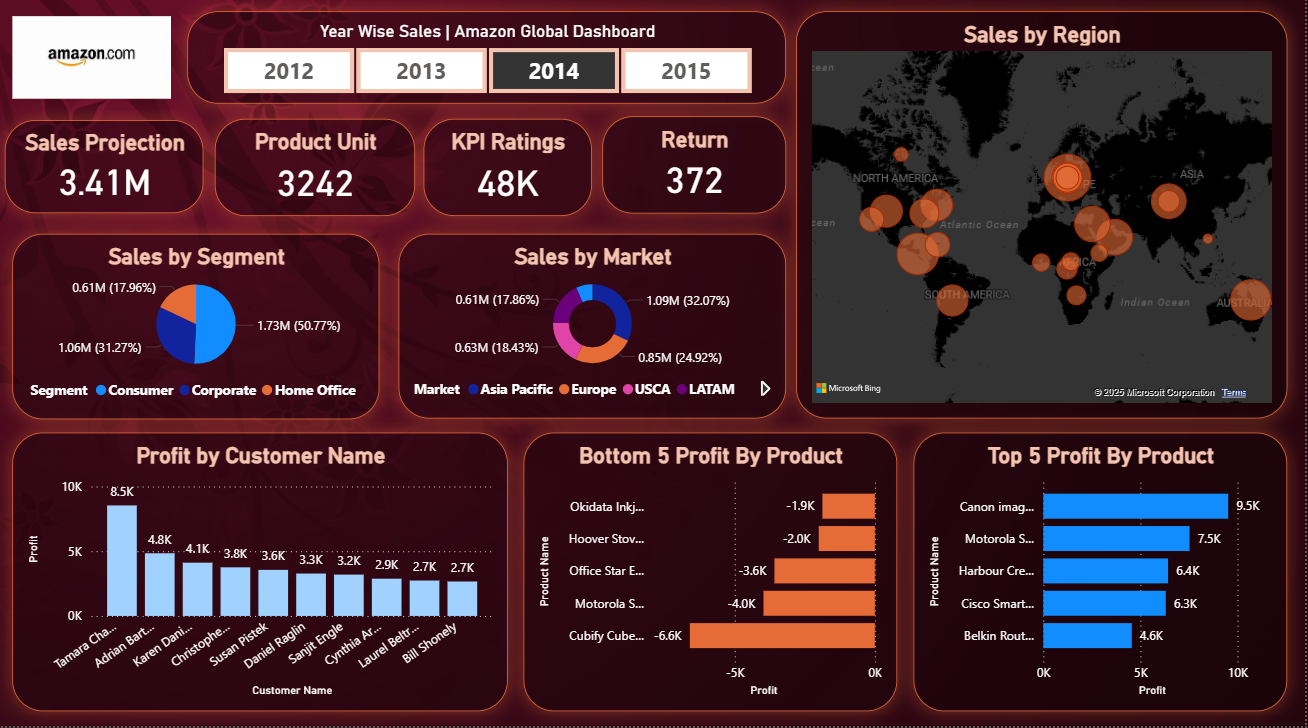

What the dashboard file says about the page in this screenshot:
{"tool":"powerbi","page":{"name":"Report 1","canvas":[1280,720],"ordinal":0},"visuals":[{"type":"slicer","title":"Year Wise Sales | Amazon Global Dashboard","fields":{"Values":["Orders.Year"]},"box":[187.1,20.8,585.7,90.5],"z":0},{"type":"card","title":"Sales Projection","fields":{"Values":["Orders.Sales"]},"box":[8.7,127,194.8,90.9],"z":1000},{"type":"image","box":[0,20.2,187.6,90.9],"z":2000},{"type":"card","title":"Return","fields":{"Values":["Orders.Ship Date"]},"box":[593.1,123.5,179.8,95.4],"z":3000},{"type":"card","title":"KPI Ratings","fields":{"Values":["Orders.Quantity"]},"box":[418.4,125.5,164.5,95.2],"z":4000},{"type":"card","title":"Product Unit","fields":{"Values":["Orders.Product Name"]},"box":[213.5,125.5,196.2,95.2],"z":5000},{"type":"pieChart","title":"Sales by Segment","fields":{"Category":["Orders.Segment"],"Y":["Orders.Sales","select"]},"box":[15.9,238.1,359.2,181.8],"z":6000},{"type":"donutChart","title":"Sales by Market","fields":{"Category":["Orders.Market"],"Y":["Orders.Sales"]},"box":[393.8,238.5,379.1,181],"z":7000},{"type":"columnChart","title":"Profit by Customer Name","fields":{"Category":["Orders.Customer Name"],"Y":["Orders.Profit"]},"box":[15.6,432.4,485,273.1],"z":8000},{"type":"clusteredBarChart","title":"Bottom 5 Profit By Product","fields":{"Category":["Orders.Product Name"],"Y":["Orders.Profit"]},"box":[516.3,432.4,365.5,273.1],"z":9000},{"type":"clusteredBarChart","title":"Top 5 Profit By Product","fields":{"Category":["Orders.Product Name"],"Y":["Orders.Profit"]},"box":[897.4,432.4,365.5,273.1],"z":10000},{"type":"map","title":"Sales by Region","fields":{"Category":["Orders.Region"],"Size":["Orders.Sales"]},"box":[782.6,20.8,480.6,398.6],"z":11000}]}

Visuals, with their boxes in screenshot pixels (x1, y1, x2, y2), scaled from the page's 1280x720 canvas onto the 1308x728 screenshot:
"Year Wise Sales | Amazon Global Dashboard" slicer: locate(191, 21, 790, 113)
"Sales Projection" card: locate(9, 128, 208, 220)
image: locate(0, 20, 192, 112)
"Return" card: locate(606, 125, 790, 221)
"KPI Ratings" card: locate(428, 127, 596, 223)
"Product Unit" card: locate(218, 127, 419, 223)
"Sales by Segment" pieChart: locate(16, 241, 383, 425)
"Sales by Market" donutChart: locate(402, 241, 790, 424)
"Profit by Customer Name" columnChart: locate(16, 437, 512, 713)
"Bottom 5 Profit By Product" clusteredBarChart: locate(528, 437, 901, 713)
"Top 5 Profit By Product" clusteredBarChart: locate(917, 437, 1291, 713)
"Sales by Region" map: locate(800, 21, 1291, 424)
